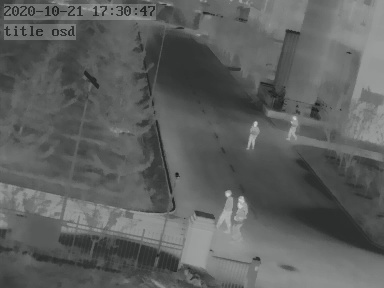person: (216, 190, 232, 231), (235, 195, 249, 233), (287, 114, 299, 142), (247, 120, 258, 149)
